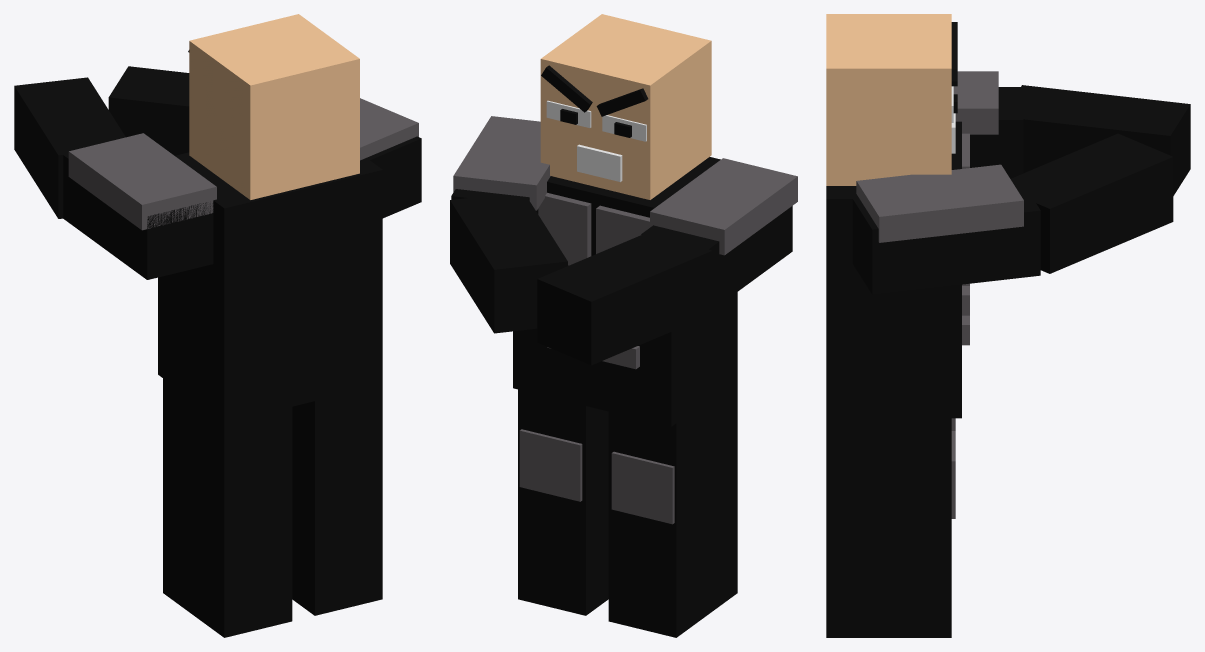
3 views of the same model, side by side, from view 1: azimuth 30°, elevation 25°; view 2: azimuth 150°, elevation 25°; view 3: azimuth 270°, elevation 25° (orthographic). The views are drawn at different scales.
Parts seen in each view (by area): view 1: playerVariantTwo; view 2: playerVariantTwo; view 3: playerVariantTwo.
Part boxes in pixels (left/top/right/bottom): playerVariantTwo: left=14, top=14, right=421, bottom=637; playerVariantTwo: left=450, top=14, right=797, bottom=637; playerVariantTwo: left=826, top=14, right=1190, bottom=637.
Bounding box in the file's own units: 168 × 300 × 177.
